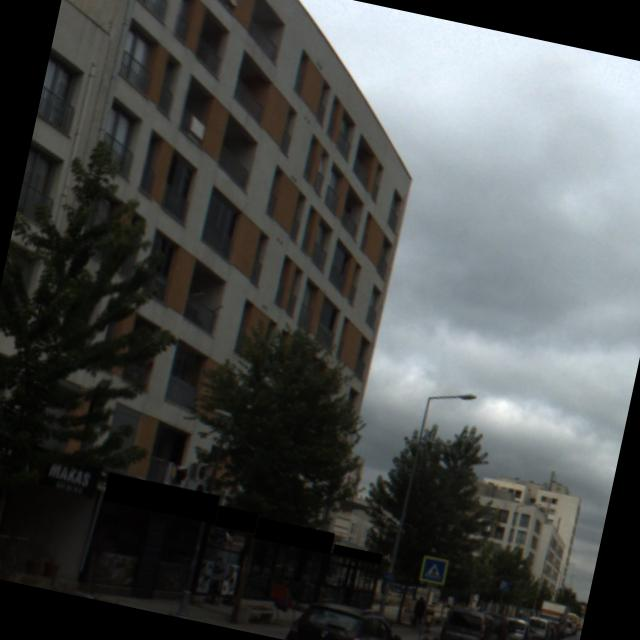SignStore: (0, 436, 104, 498), (103, 473, 217, 524), (254, 517, 333, 554), (215, 505, 258, 534), (333, 544, 381, 564)
